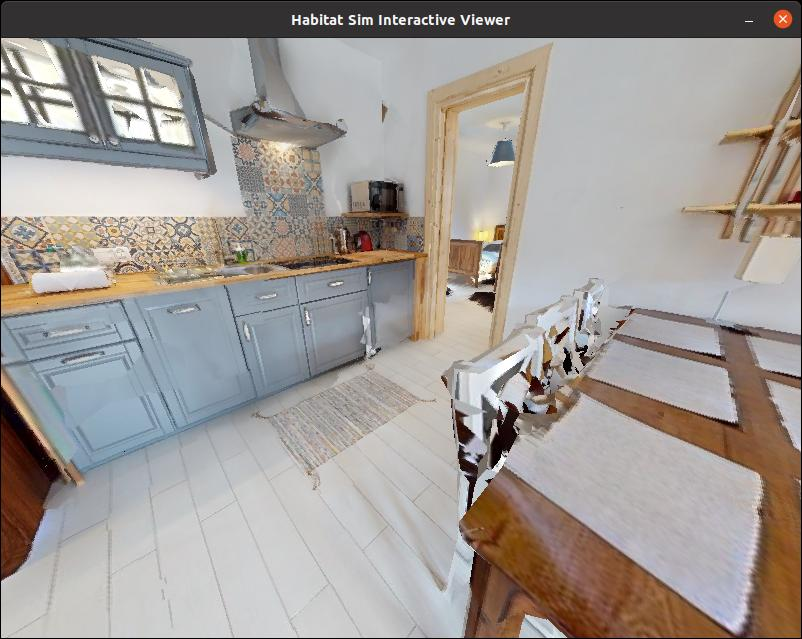door-frame: (431, 33, 532, 362)
table: (431, 303, 802, 639)
